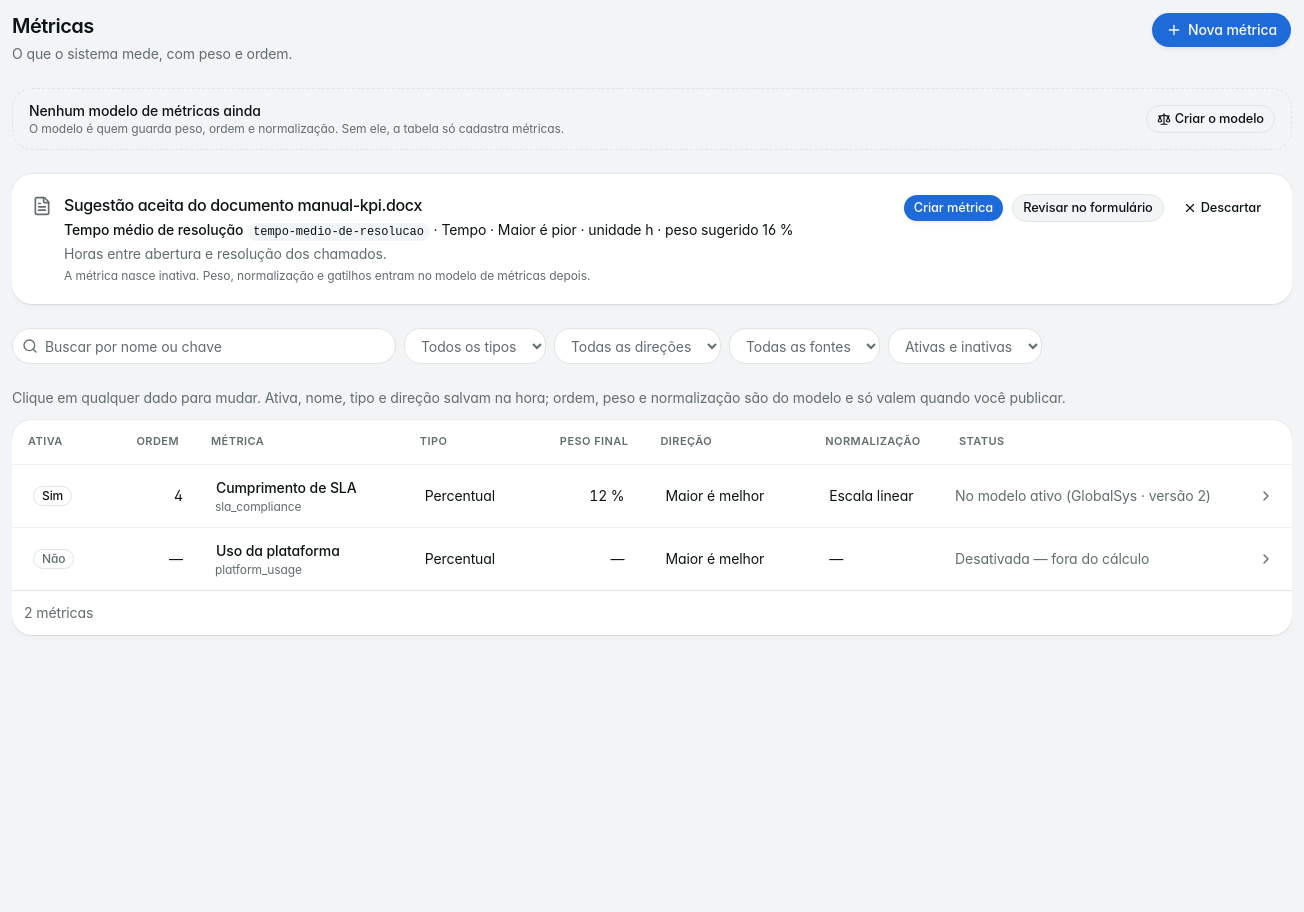
Test case: sugestão aceita em /documents (state.prefill) › mostra a sugestão e cria a métrica inativa em POST /metrics, indo para o detalhe
This screenshot has width=1304, height=912.
expect the heading "Sugestão aceita do documento manual-kpi.docx" is shown: met, box [64,195,422,215]
expect the text "Tempo médio de resolução" is shown: met, box [64,221,243,238]
Step 1. Click the button "Criar métrica" → (953, 208), box [903,194,1004,222]
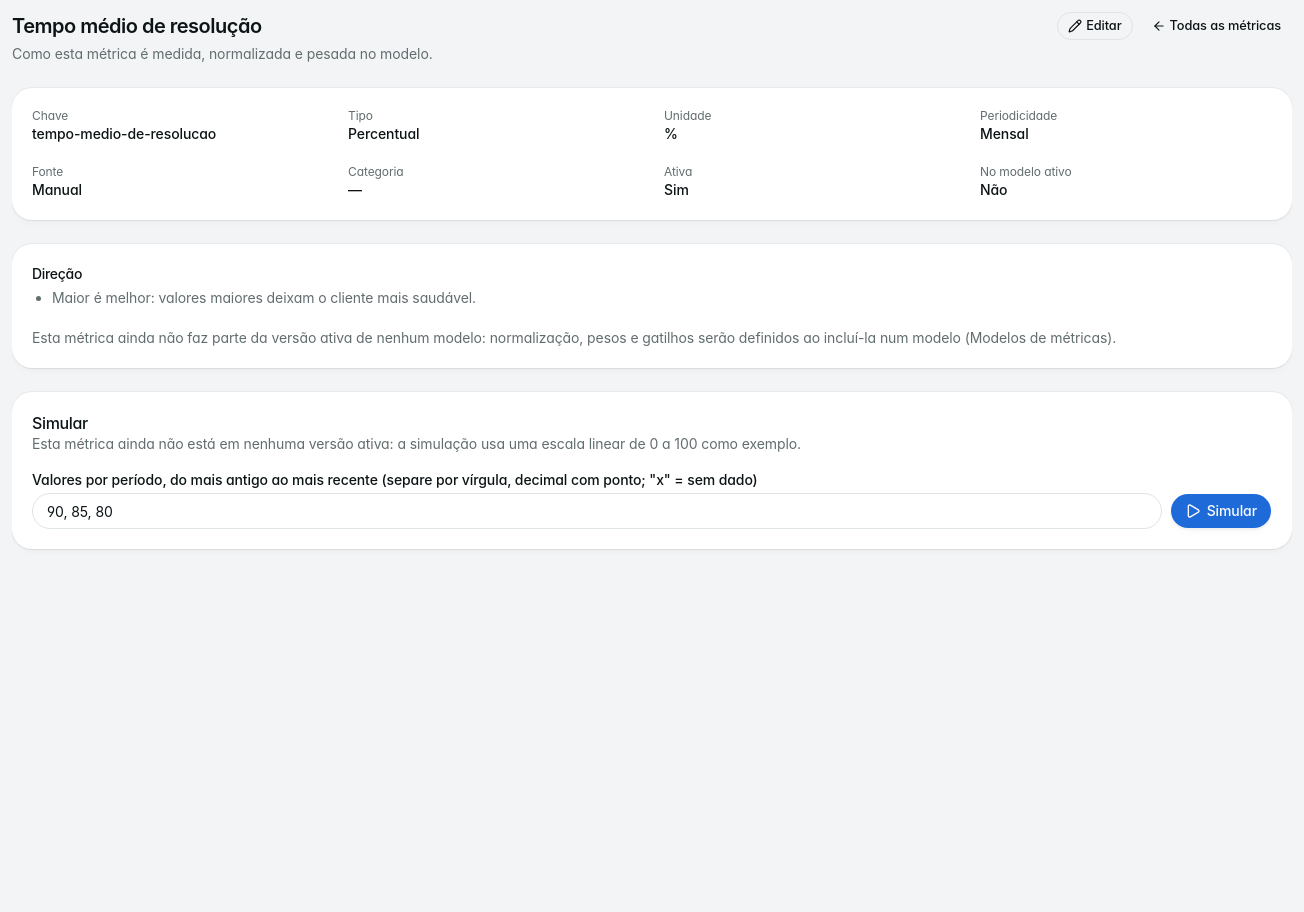
expect the heading "Tempo médio de resolução" is shown: met, box [12,14,262,38]
